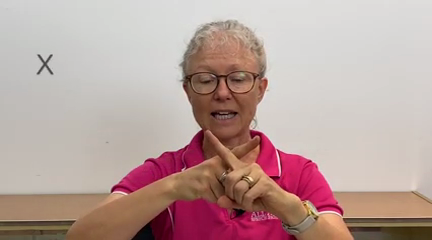X: (185, 123, 286, 220)
